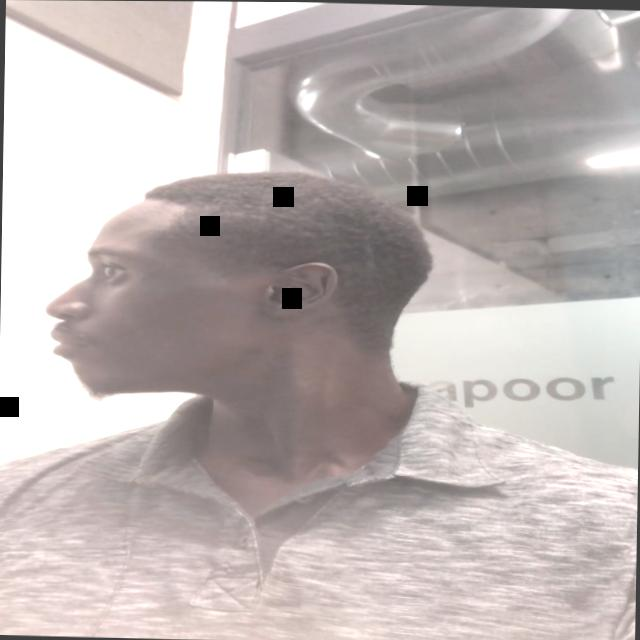NO-Mask: (40, 197, 316, 403)
